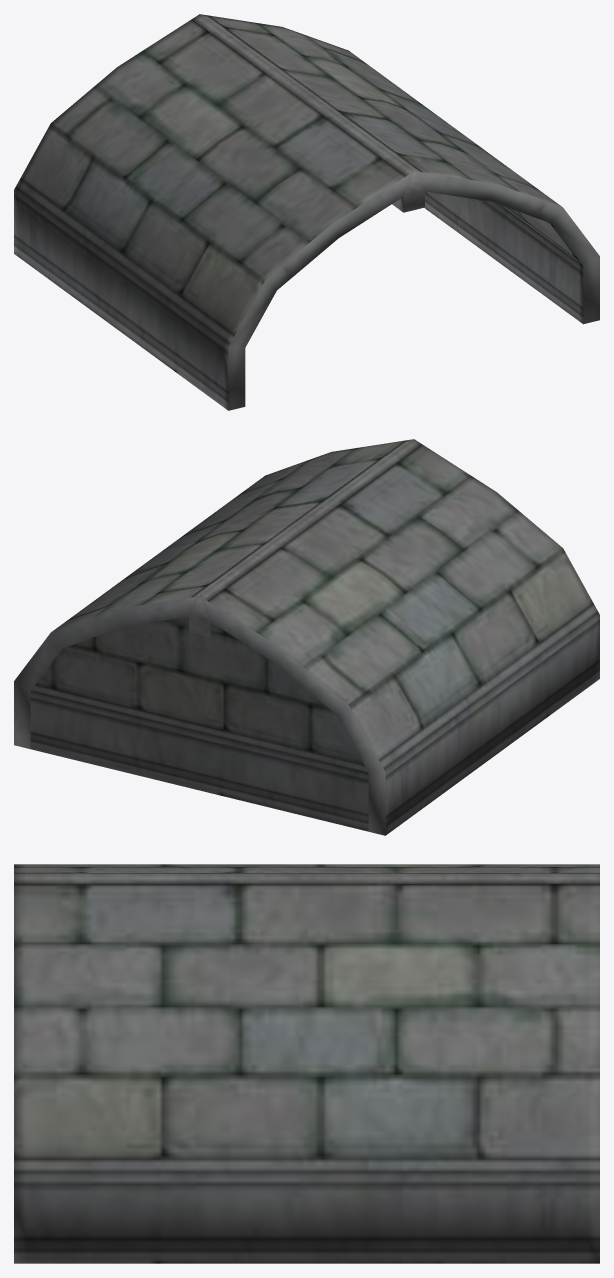
File: sd_barrel_ceiling_large_02.glb
3 views of the same model, one above another, from view 1: azimuth 30°, elevation 25°; view 2: azimuth 150°, elevation 25°; view 3: azimuth 270°, elevation 25° (orthographic). The views are drawn at different scales.
Parts seen in each view (by area): view 1: barrel_ceiling_large_02; view 2: barrel_ceiling_large_02; view 3: barrel_ceiling_large_02.
Boxes of the visible parts, x1,y1,x2,y2 form: barrel_ceiling_large_02: (14,14,599,410); barrel_ceiling_large_02: (14,439,599,835); barrel_ceiling_large_02: (14,864,599,1263).
Bounding box in the file's own units: 4 × 2 × 4.
1 material, 1 textured.
